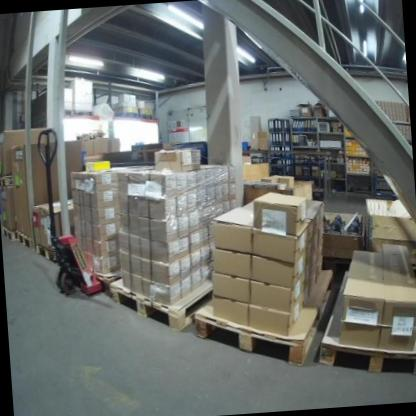pallet: (190, 268, 341, 374), (310, 265, 416, 384), (111, 270, 219, 338), (96, 271, 124, 304), (33, 238, 61, 265), (16, 228, 35, 253), (3, 224, 18, 245), (0, 174, 17, 187)
pallet_truck: (35, 125, 107, 302)
